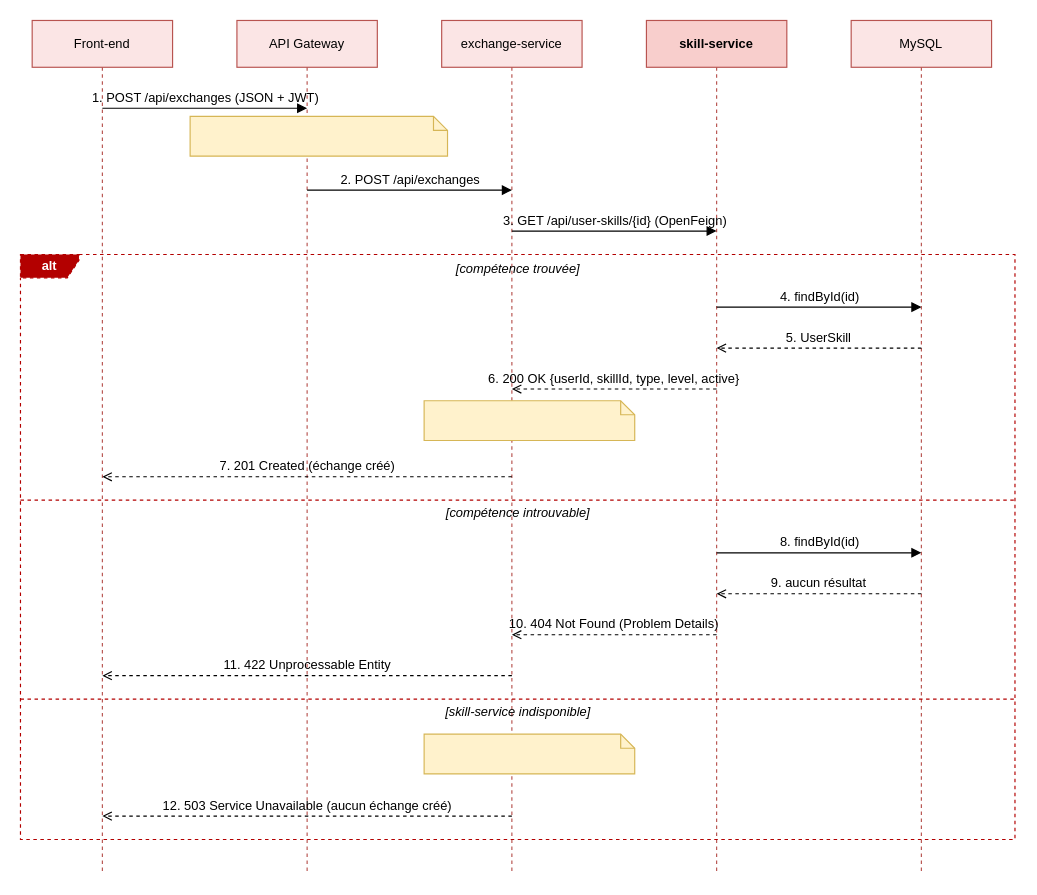
Image size: 1037x895. Some labels were removed from this diagram. Each missing label, with the box of its shape:
Circuit breaker (Resilience4j) → méthode de fallback: (423, 733, 635, 774)
Vérifie : active, OFFERED, appartient au mentor: (423, 400, 635, 441)
Vérifie le JWT (Keycloak) Route vers EXCHANGE-SERVICE (Eureka): (189, 115, 448, 156)
